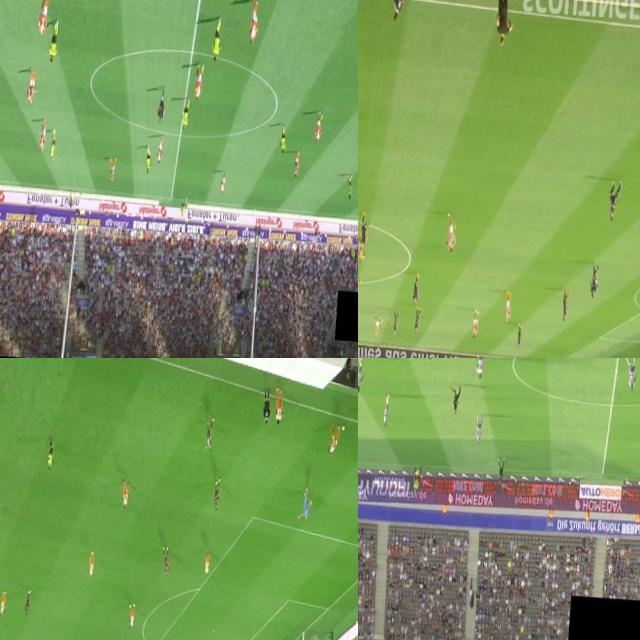ball: (340, 424, 346, 436), (342, 176, 346, 182)
player: (606, 178, 621, 225), (210, 18, 223, 64), (448, 382, 462, 420), (248, 0, 259, 43), (192, 63, 204, 102), (37, 0, 50, 36), (48, 21, 58, 65), (26, 65, 36, 109), (300, 483, 311, 523), (204, 418, 215, 455), (560, 285, 570, 325), (327, 424, 339, 456), (358, 214, 369, 248), (627, 358, 638, 392), (380, 396, 391, 430), (314, 108, 324, 144), (444, 216, 454, 252), (38, 118, 48, 152), (180, 100, 190, 132), (142, 142, 152, 174), (589, 268, 599, 300), (161, 544, 171, 576), (48, 128, 56, 166), (292, 150, 302, 180), (278, 125, 288, 155), (358, 230, 366, 266), (274, 390, 282, 426), (213, 477, 221, 512), (120, 482, 130, 510), (413, 306, 421, 339), (496, 460, 506, 486), (202, 550, 212, 574), (128, 600, 136, 630), (474, 418, 484, 442), (358, 358, 365, 392), (373, 312, 382, 338), (346, 174, 354, 203), (220, 168, 228, 196), (502, 296, 510, 324), (469, 311, 478, 335), (108, 159, 116, 185), (86, 552, 94, 578), (0, 590, 8, 616), (475, 358, 484, 380), (411, 277, 418, 305), (156, 136, 163, 162), (180, 194, 187, 218), (392, 310, 399, 334), (25, 588, 31, 616), (516, 326, 522, 346), (358, 272, 360, 303)
